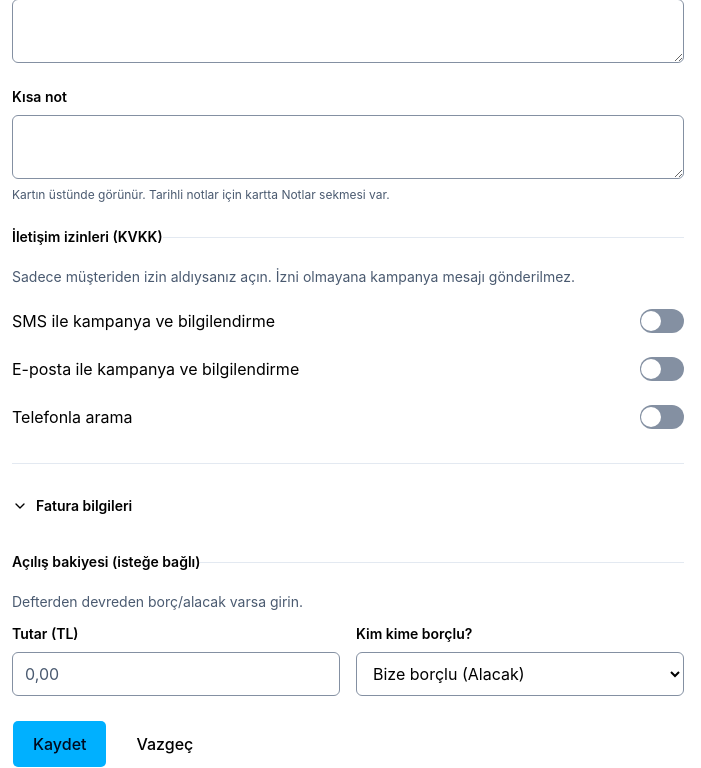
ContactForm › ad ve firma boşsa kaydetmez; KVKK izinleri varsayılan kapalı
(page scrolled)
Click the button "Kaydet" at [60, 744], box [12, 720, 108, 767]
(page scrolled)
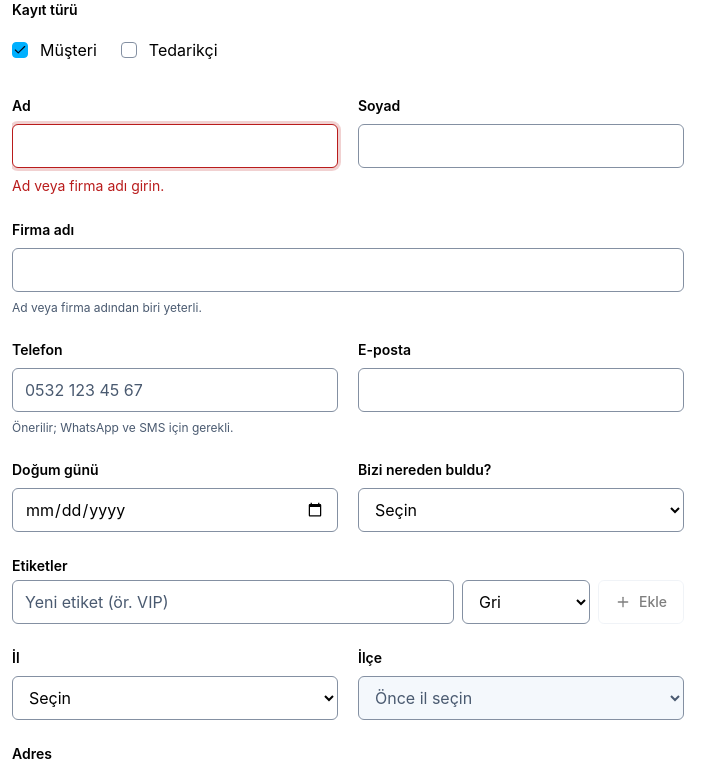
Now the text "Ad veya firma adı girin." is shown, box [12, 177, 164, 194]
